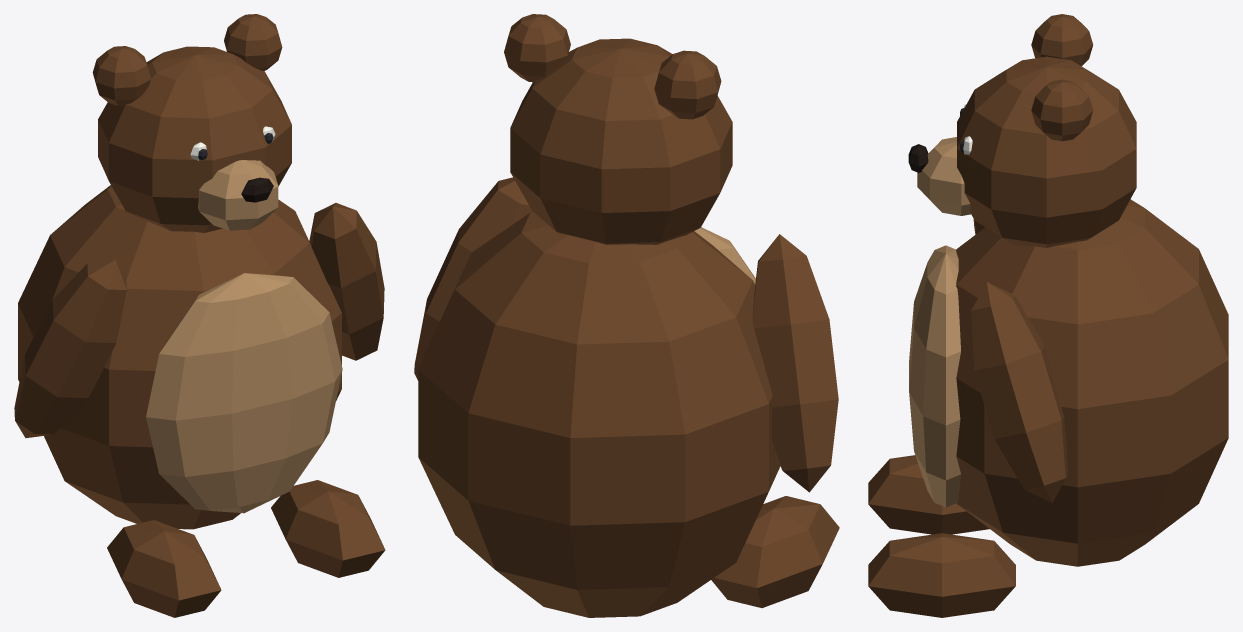
File: animal_bear.glb
3 views of the same model, side by side, from view 1: azimuth 30°, elevation 25°; view 2: azimuth 150°, elevation 25°; view 3: azimuth 270°, elevation 25° (orthographic). The views are drawn at different scales.
Parts seen in each view (by area): view 1: body_bear_fur, body_bear_snout, head_bear_fur, arms_bear_fur, feet_bear_fur, head_bear_snout, face_bear_nose; view 2: body_bear_fur, head_bear_fur, arms_bear_fur, feet_bear_fur, body_bear_snout; view 3: body_bear_fur, head_bear_fur, feet_bear_fur, arms_bear_fur, body_bear_snout, head_bear_snout.
Part boxes in pixels (bbox=[...]): body_bear_fur: bbox=[18, 185, 341, 529]; body_bear_snout: bbox=[146, 273, 342, 513]; head_bear_fur: bbox=[92, 14, 291, 232]; arms_bear_fur: bbox=[14, 203, 384, 438]; feet_bear_fur: bbox=[107, 480, 385, 617]; head_bear_snout: bbox=[198, 160, 278, 230]; face_bear_nose: bbox=[241, 177, 273, 202]; body_bear_fur: bbox=[418, 211, 780, 617]; head_bear_fur: bbox=[504, 14, 732, 244]; arms_bear_fur: bbox=[414, 177, 838, 492]; feet_bear_fur: bbox=[711, 496, 839, 607]; body_bear_snout: bbox=[694, 227, 755, 284]; body_bear_fur: bbox=[956, 199, 1228, 566]; head_bear_fur: bbox=[957, 14, 1136, 247]; feet_bear_fur: bbox=[868, 455, 1015, 617]; arms_bear_fur: bbox=[971, 219, 1067, 503]; body_bear_snout: bbox=[909, 245, 960, 507]; head_bear_snout: bbox=[917, 137, 970, 215].
Bounding box in the file's own units: 1.11 × 1.49 × 0.93.
